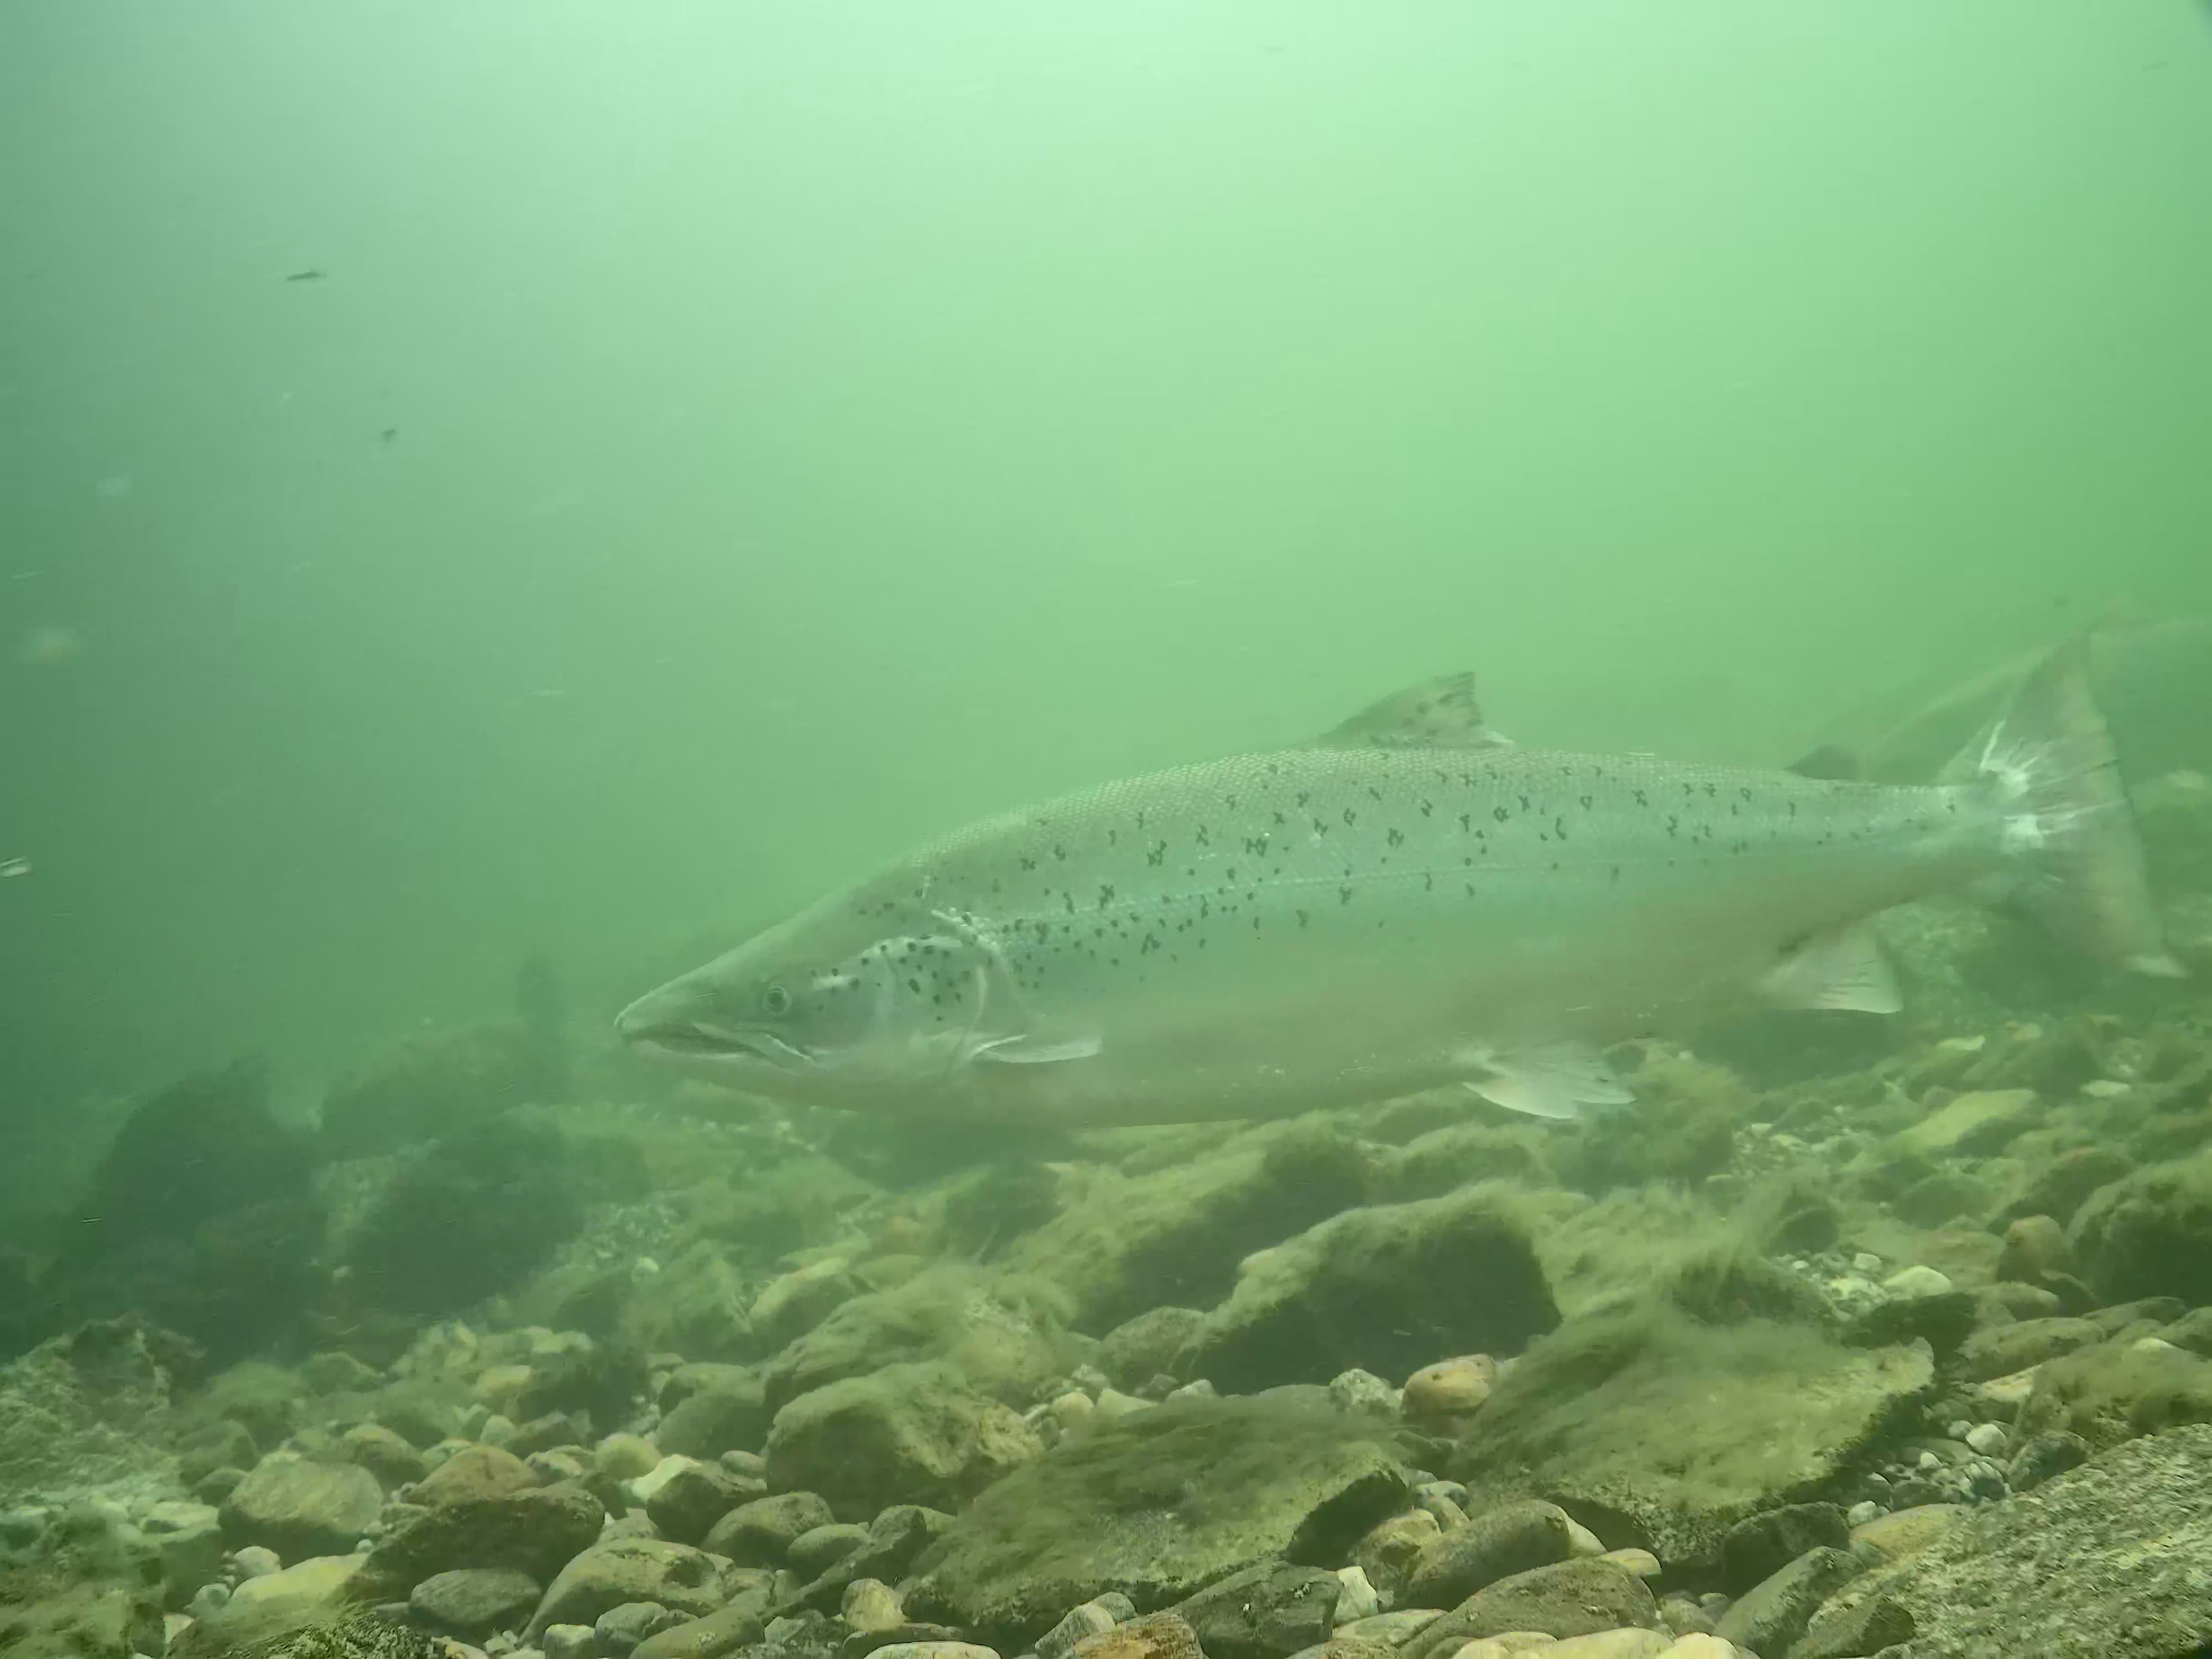salmon: (606, 619, 2189, 1136)
